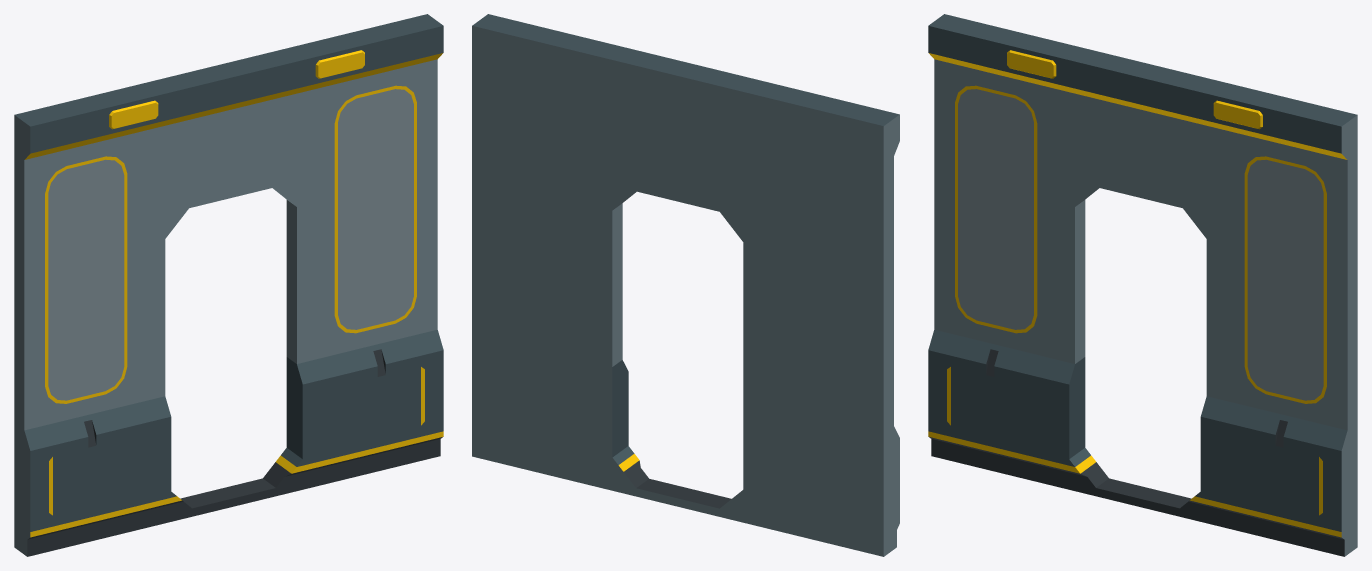
The model's file is Wall_type_C_053.glb.
3 renders of one model, left to right at view 1: azimuth 30°, elevation 25°; view 2: azimuth 150°, elevation 25°; view 3: azimuth 330°, elevation 25°, orthographic.
Parts seen in each view (by area): view 1: Wall_type_C_053; view 2: Wall_type_C_053; view 3: Wall_type_C_053.
Part boxes in pixels (x1=…): Wall_type_C_053: x1=14, y1=14, x2=443, y2=556; Wall_type_C_053: x1=472, y1=14, x2=899, y2=556; Wall_type_C_053: x1=928, y1=14, x2=1357, y2=556.
Size of the model in its own units: 4 by 4 by 0.2898.
2 materials, 2 textured.
